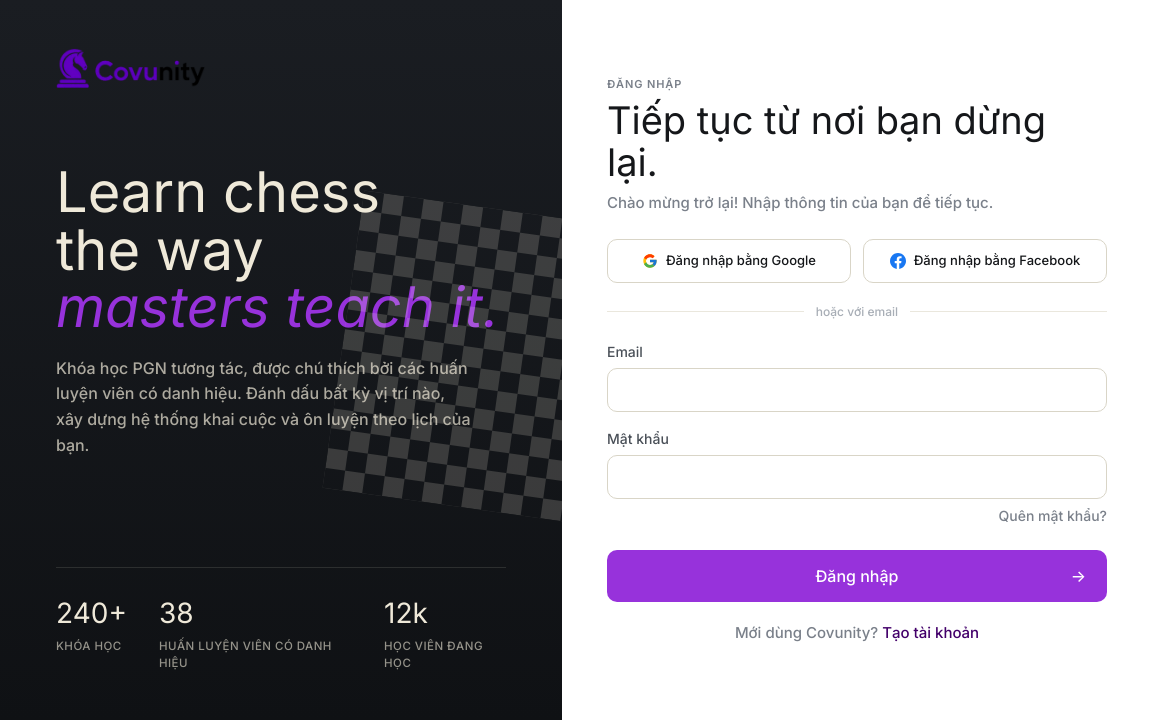
it: LoginPage › shows required errors when submitting empty form
Step 1. Click the button "Đăng nhập →" → (857, 576), box [607,550,1107,602]
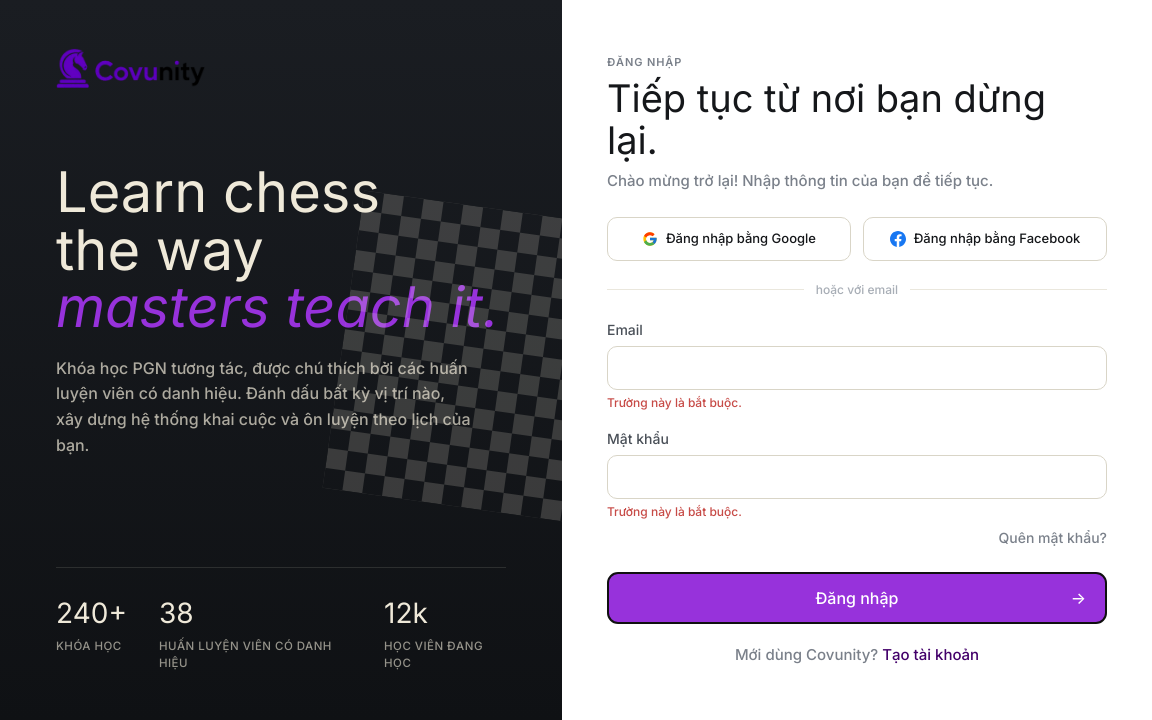
expect the 1st text "Trường này là bắt buộc." is shown: met, box [607,394,742,410]
